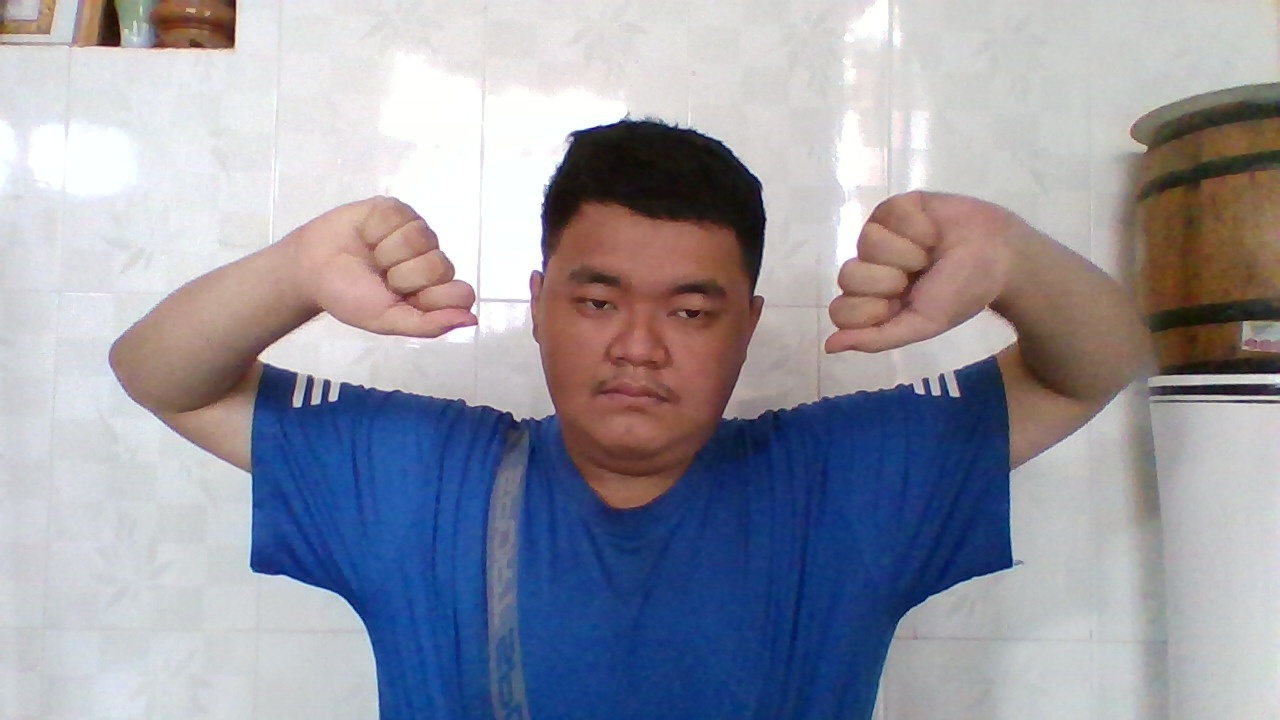A: (817, 194, 1017, 360), (288, 195, 478, 346)
